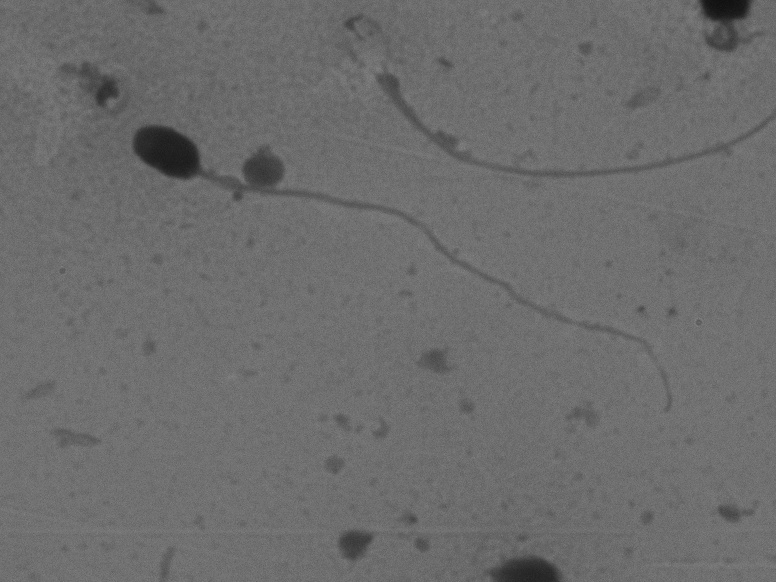Abnormal: (111, 100, 701, 431), (319, 8, 770, 190)
